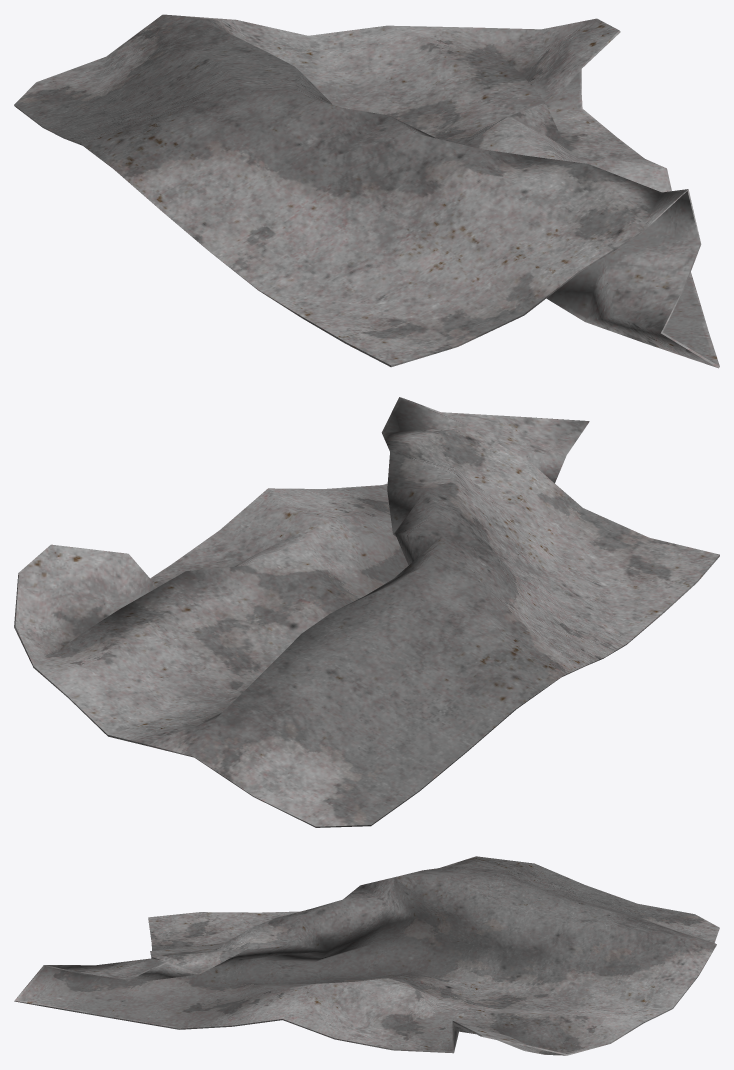
Rendered from Rag01_1.FBX.
The picture shows the model from 3 angles, top to bottom: view 1: azimuth 30°, elevation 25°; view 2: azimuth 150°, elevation 25°; view 3: azimuth 270°, elevation 25°; orthographic projection. The views are drawn at different scales.
Parts seen in each view (by area): view 1: Rag01_1_LOD0; view 2: Rag01_1_LOD0; view 3: Rag01_1_LOD0.
Boxes of the visible parts, x1,y1,x2,y2 form: Rag01_1_LOD0: [14, 14, 719, 368]; Rag01_1_LOD0: [14, 397, 719, 827]; Rag01_1_LOD0: [14, 856, 719, 1055].
Size of what is drawn, in the model's own units: 14.99 by 3.15 by 23.63.
